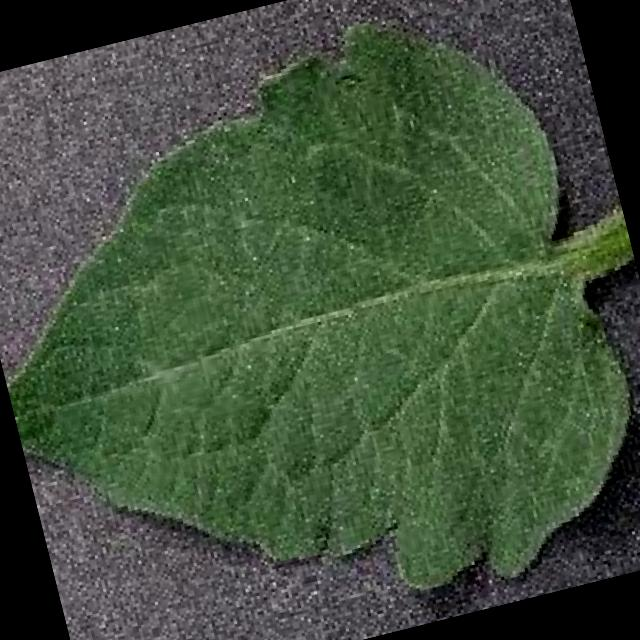healthy: (5, 10, 635, 582)
